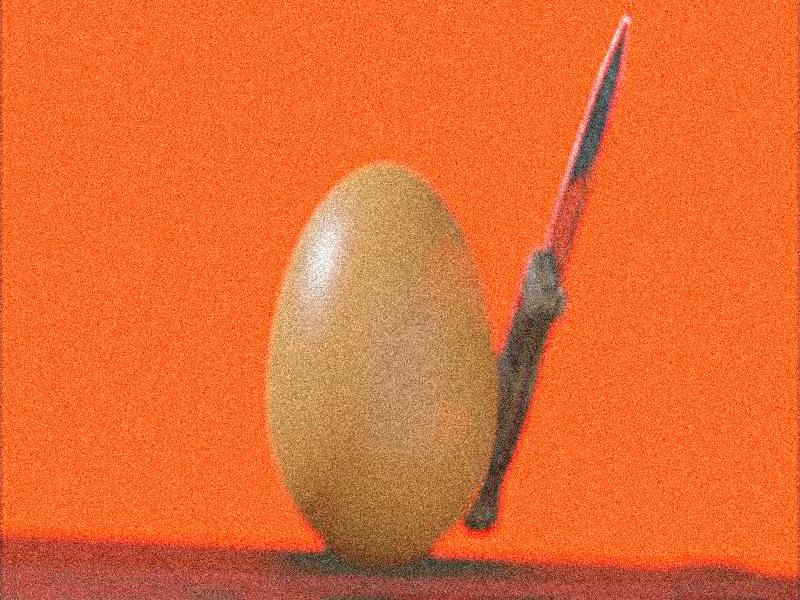Eggs: (269, 168, 496, 557)
